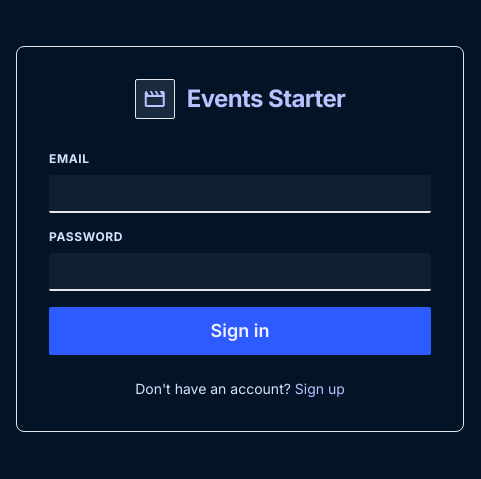
it: LoginForm › error con code sin clave i18n → cae al message del backend
This screenshot has width=481, height=479.
Type "wrong@example.com" into the field. click: (240, 194)
box: left=49, top=175, right=431, bottom=213
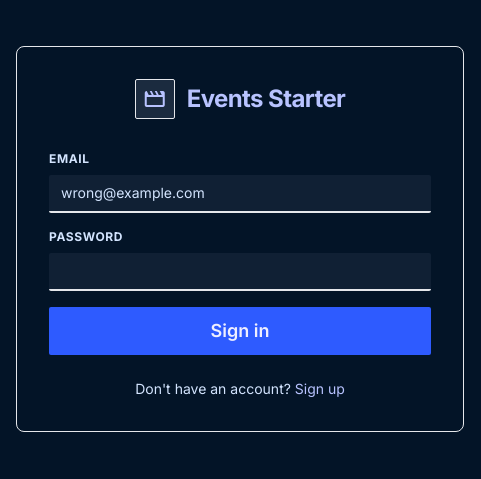
Type "wrongpass" into the password field. click: (240, 272)
box: left=49, top=253, right=431, bottom=291
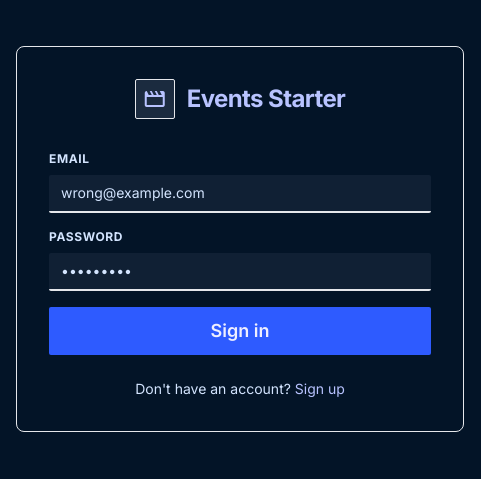
Click the button "Sign in". click: (240, 331)
box: left=49, top=307, right=431, bottom=355
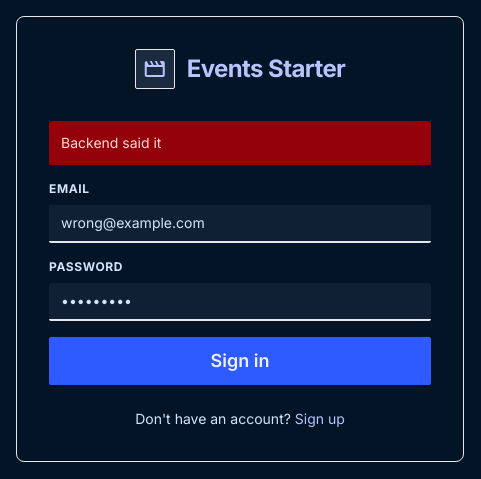
Now the text "Backend said it" is shown, box left=49, top=121, right=431, bottom=165
